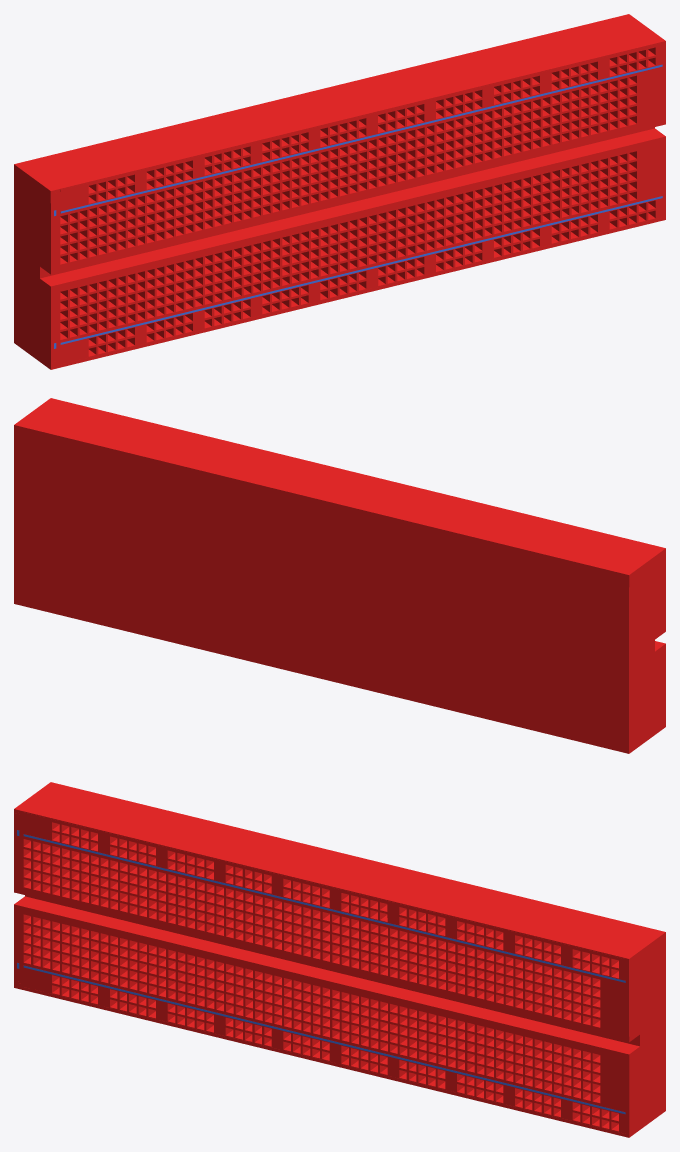
File: coloredBreadboard.fbx
3 views of the same model, one above another, from view 1: azimuth 30°, elevation 25°; view 2: azimuth 150°, elevation 25°; view 3: azimuth 330°, elevation 25° (orthographic).
Visible parts, largest first — view 1: Body3; view 2: Body3; view 3: Body3.
Part boxes in pixels (x1,y1,x2,y2): Body3: [14, 14, 665, 369]; Body3: [14, 398, 665, 753]; Body3: [14, 782, 665, 1137].
Size of the model in its own units: 5670 by 1576 by 589.
